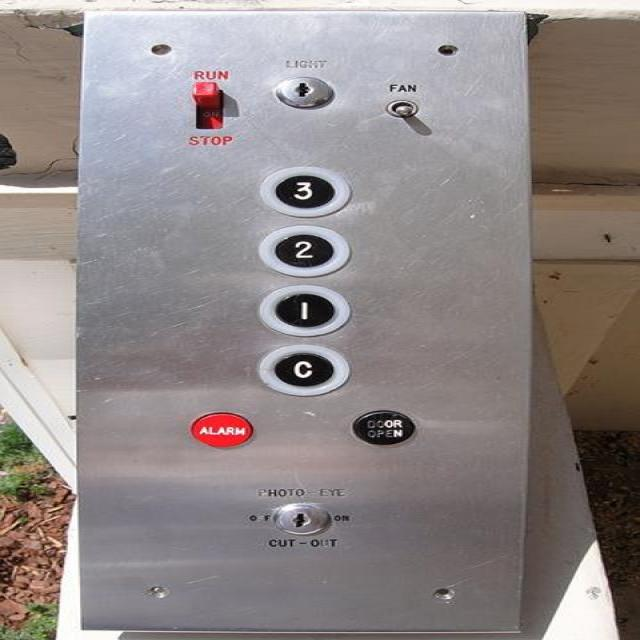1: (254, 283, 350, 337)
2: (254, 225, 350, 277)
3: (254, 165, 350, 216)
C: (256, 343, 347, 394)
keyhole: (268, 501, 335, 540), (270, 74, 334, 109)
switch: (177, 78, 232, 135), (377, 94, 424, 123)
text: (187, 409, 256, 448), (349, 410, 416, 446)
